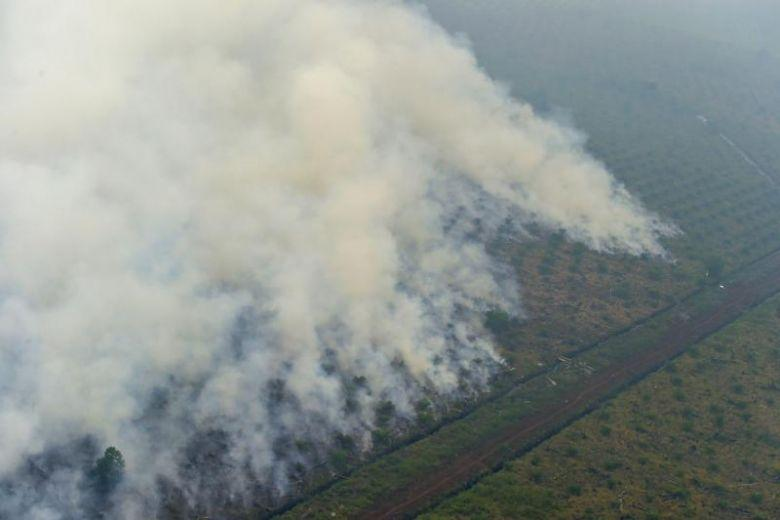smoke: (19, 12, 342, 517), (360, 6, 681, 264)
